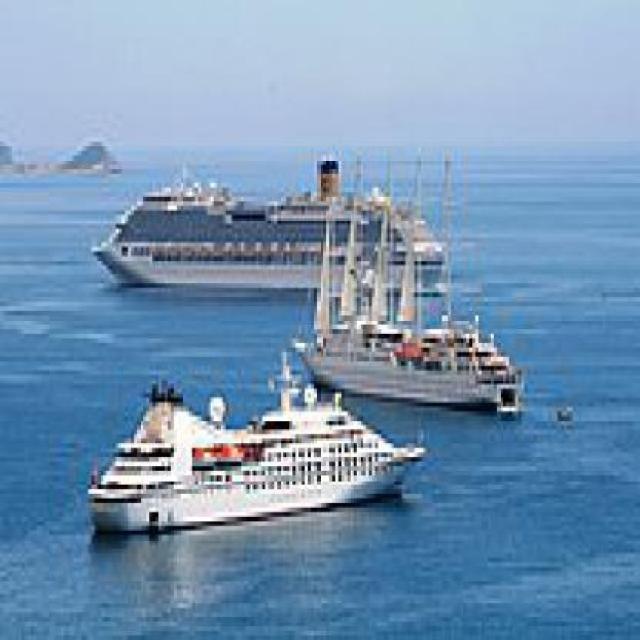cruise: (56, 367, 413, 536), (98, 166, 470, 303), (298, 271, 547, 413)
